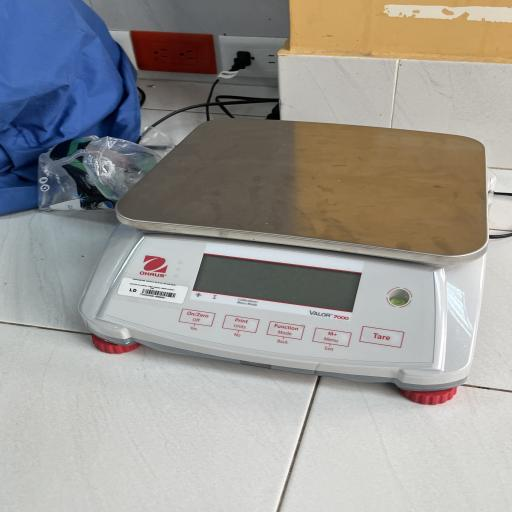Balanza_Granataria_Ohaus: (61, 108, 509, 409)
